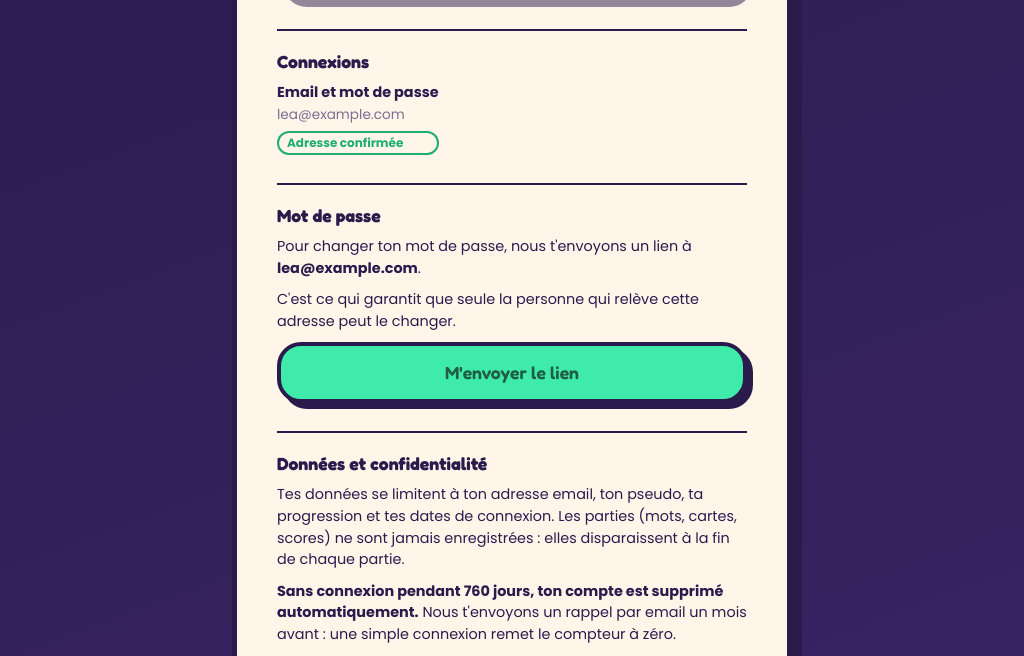
Test: AccountScreen › changement de mot de passe › sends a link instead of changing the password in place
(page scrolled)
Click the button "M'envoyer le lien". click: {"x": 512, "y": 373}
box: [277, 342, 747, 403]
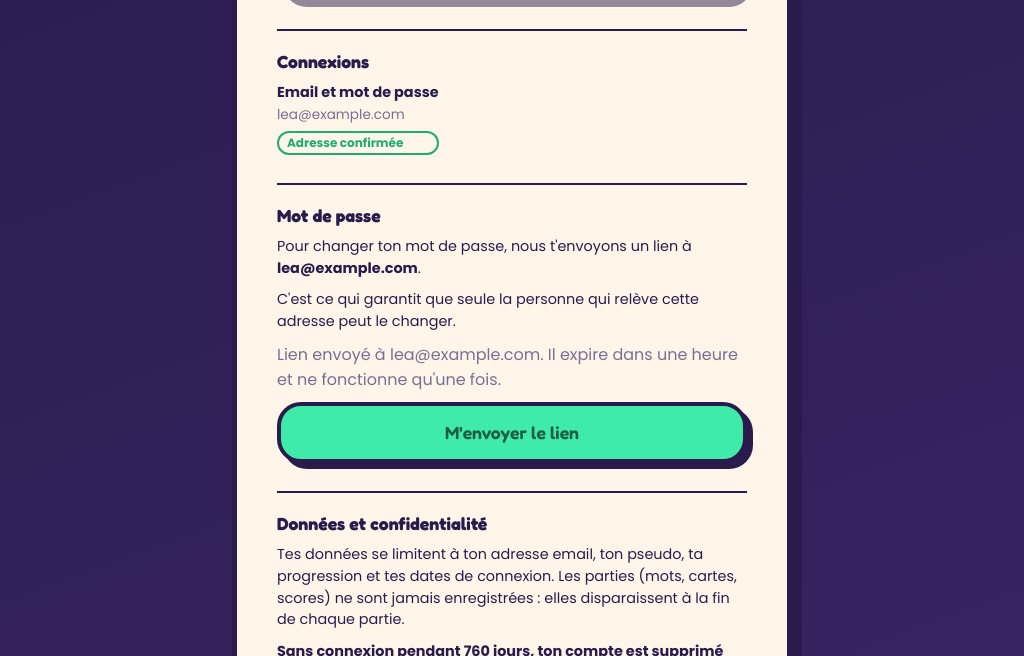
Check: the text "Lien envoyé à lea@example.com" is shown, box [277, 343, 738, 391]
